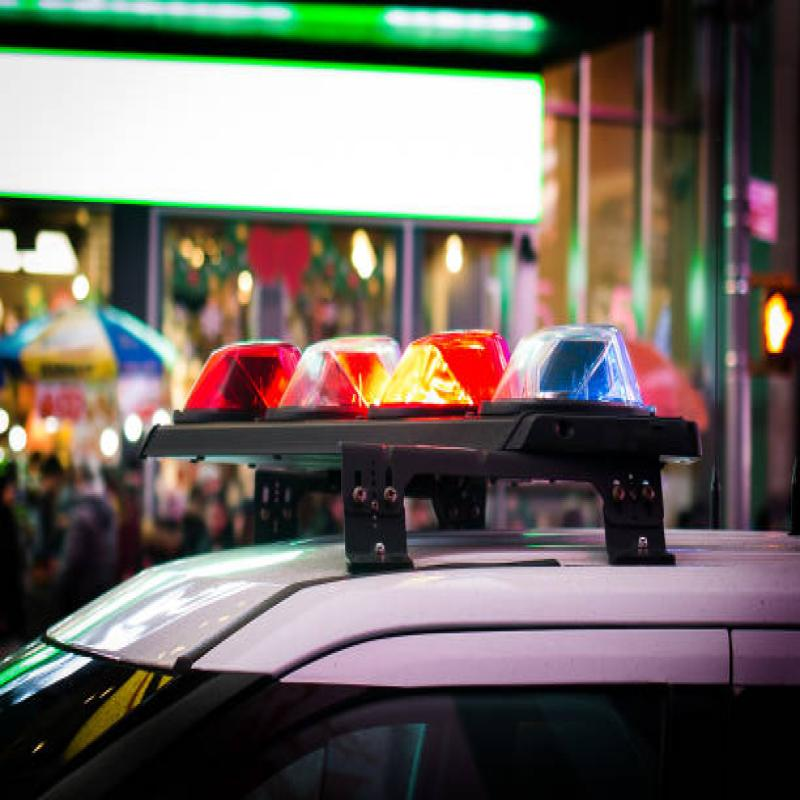AmbulanceSiren: (128, 326, 649, 436)
